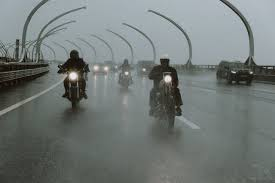motorcycle: (145, 70, 180, 129), (56, 63, 97, 109), (118, 67, 138, 88)
